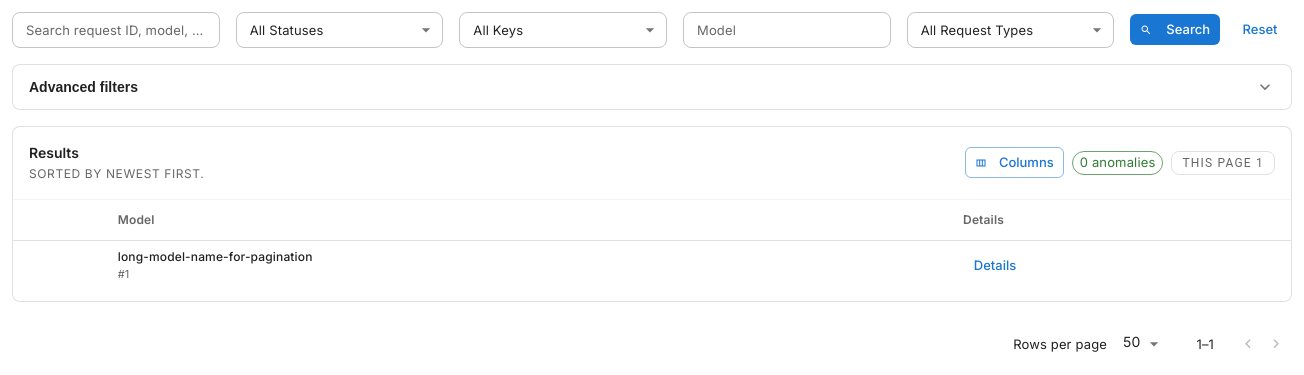
Scenario: submitted server log queries › keeps the latest submitted response when an earlier query finishes last
The image size is (1304, 375).
Expected: the button with aria-label "initial-result details" is shown, [963,250,1027,280]
Type "old" into the field labelled "Search request ID, model, or error" at x=116, y=30, box [12,12,220,48]
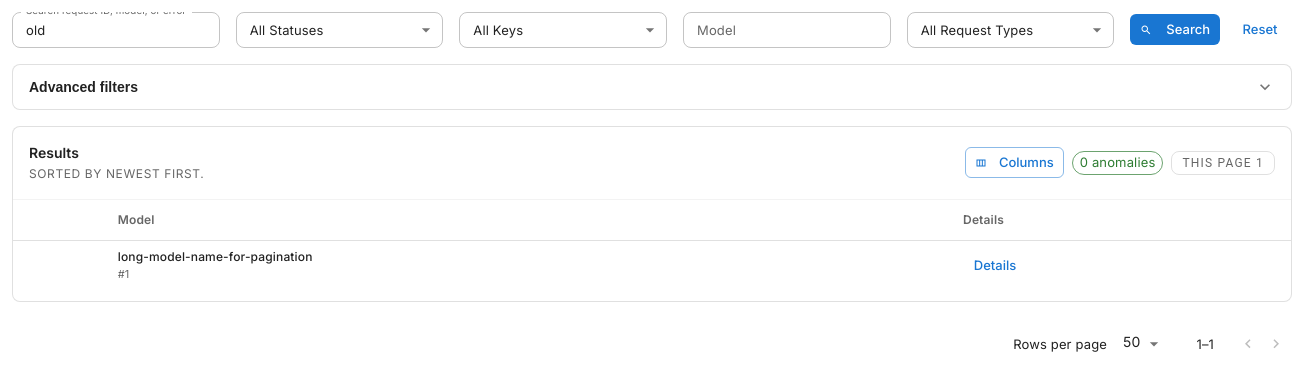
Press Enter in the field labelled "Search request ID, model, or error", box [12,12,220,48]
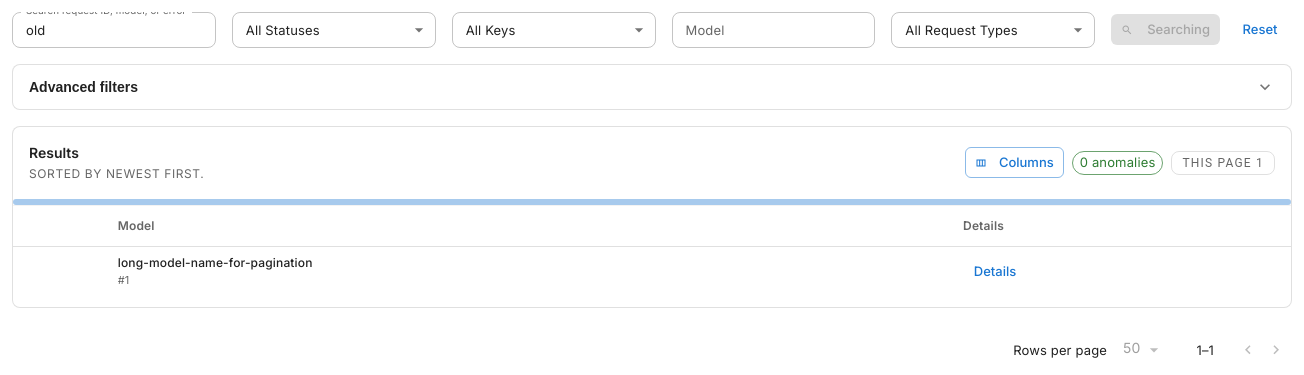
Replace the text in the field labelled "Search request ID, model, or error" with "new" at x=114, y=30, box [12,12,216,48]
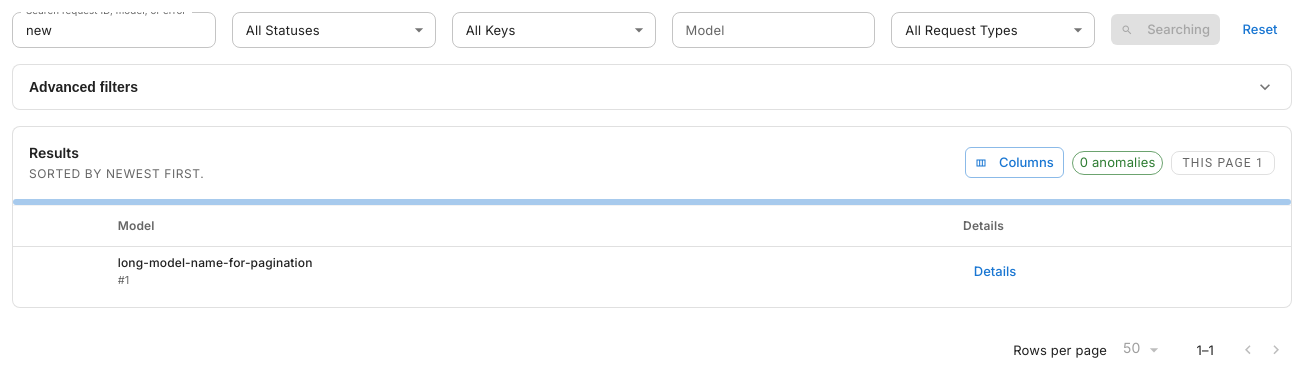
Press Enter in the field labelled "Search request ID, model, or error", box [12,12,216,48]
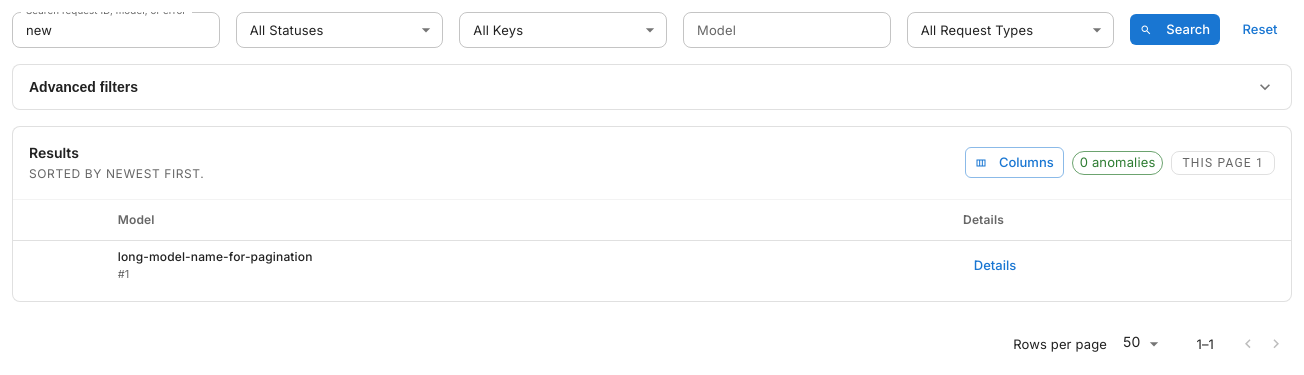
Expected: the button with aria-label "latest-result details" is shown, [963,250,1027,280]
